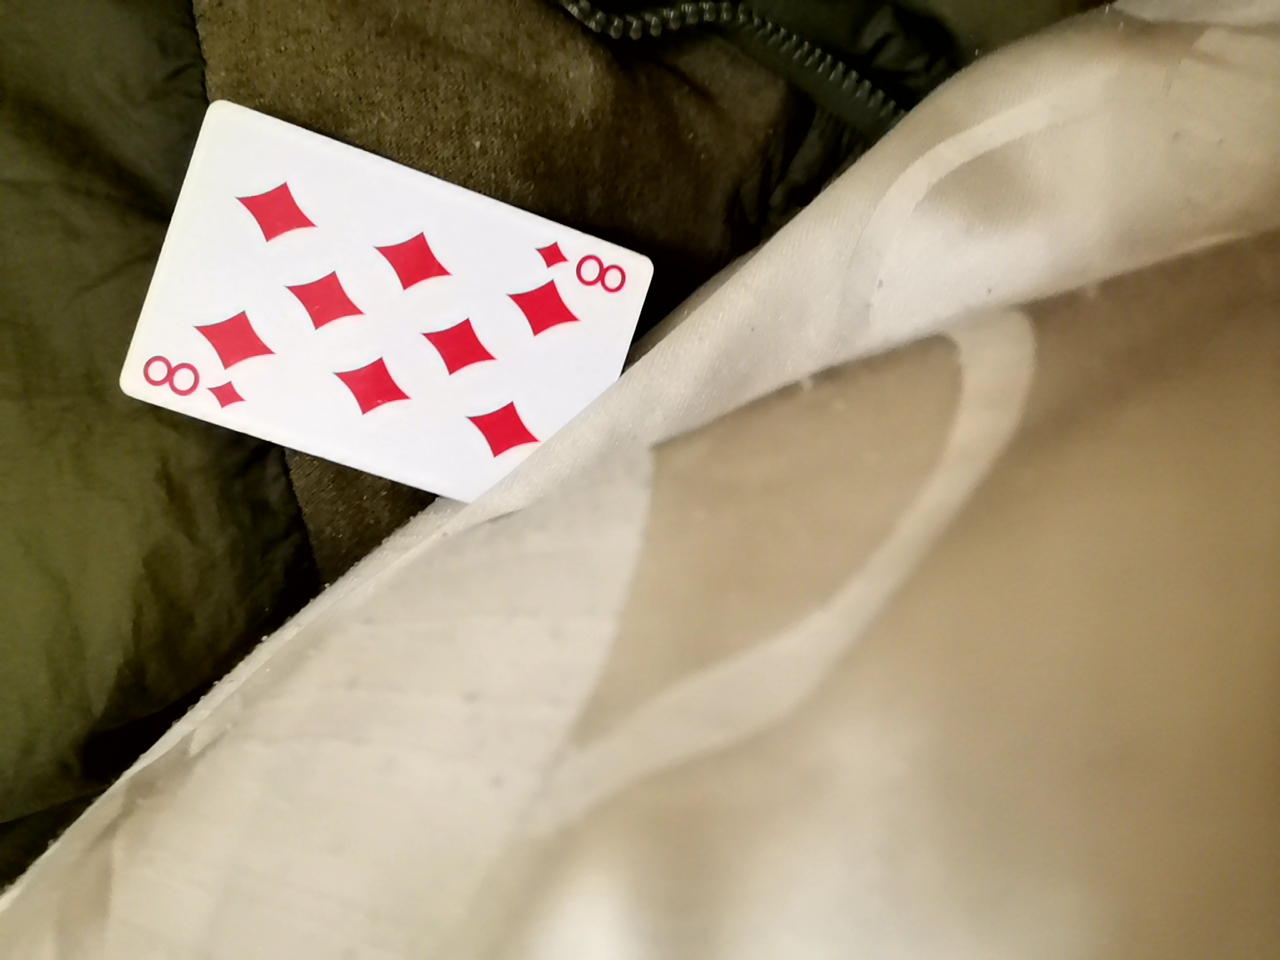fk 8: (118, 69, 664, 501)
